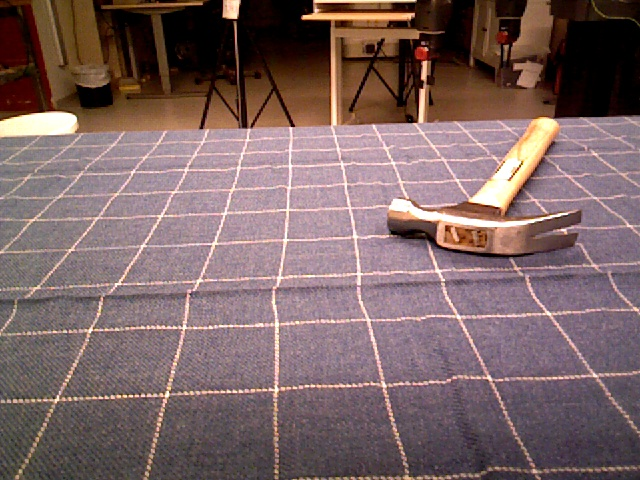hammer1: (386, 116, 586, 259)
